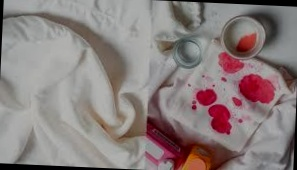lipstick: (204, 97, 244, 136), (229, 72, 272, 108), (211, 48, 249, 79), (189, 83, 223, 114)
